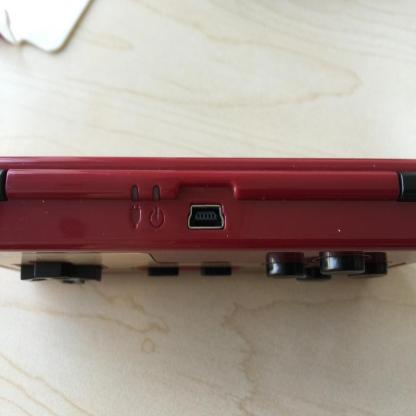board: (0, 152, 416, 286)
